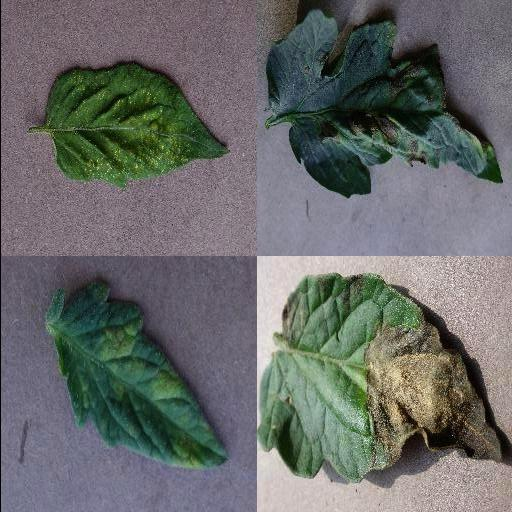Early Blight: (263, 8, 501, 199)
Late Blight: (256, 272, 504, 484)
Leaf Mold: (46, 284, 228, 470)
Spider Mites: (45, 63, 231, 188)
